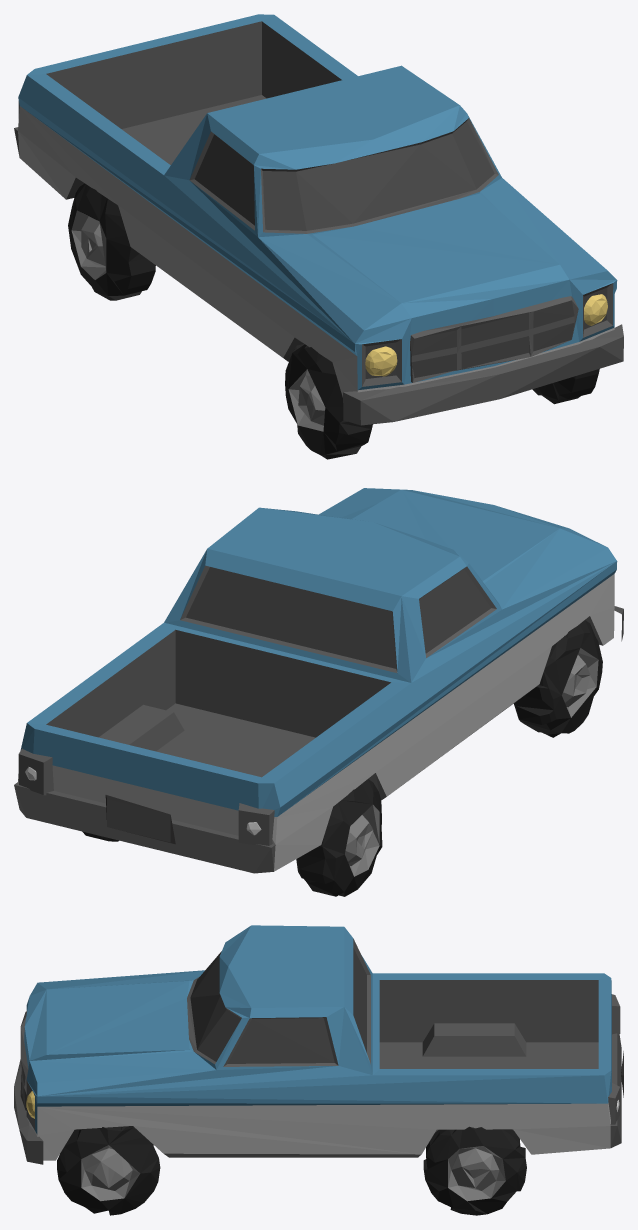
Rendered from pickup_lod.glb.
The picture shows the model from 3 angles, top to bottom: view 1: azimuth 30°, elevation 25°; view 2: azimuth 150°, elevation 25°; view 3: azimuth 270°, elevation 25°; orthographic projection. The views are drawn at different scales.
Parts seen in each view (by area): view 1: Pickup, BackWheels, FrontWheel_R, FrontWheel_L; view 2: Pickup, BackWheels, FrontWheel_R; view 3: Pickup, BackWheels, FrontWheel_L.
Boxes of the visible parts, box(x1,y1,x2,y2) form: Pickup: box(14, 14, 623, 425); BackWheels: box(68, 183, 155, 300); FrontWheel_R: box(285, 344, 372, 459); FrontWheel_L: box(532, 368, 599, 404); Pickup: box(14, 488, 623, 873); BackWheels: box(82, 779, 382, 896); FrontWheel_R: box(514, 620, 602, 737); Pickup: box(14, 925, 623, 1164); BackWheels: box(423, 1126, 526, 1215); FrontWheel_L: box(57, 1126, 160, 1215).
Size of the model in its own units: 2.31 by 1.85 by 5.18.
3 materials, 1 textured.
